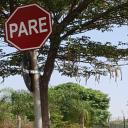Pare: (3, 4, 55, 52)
